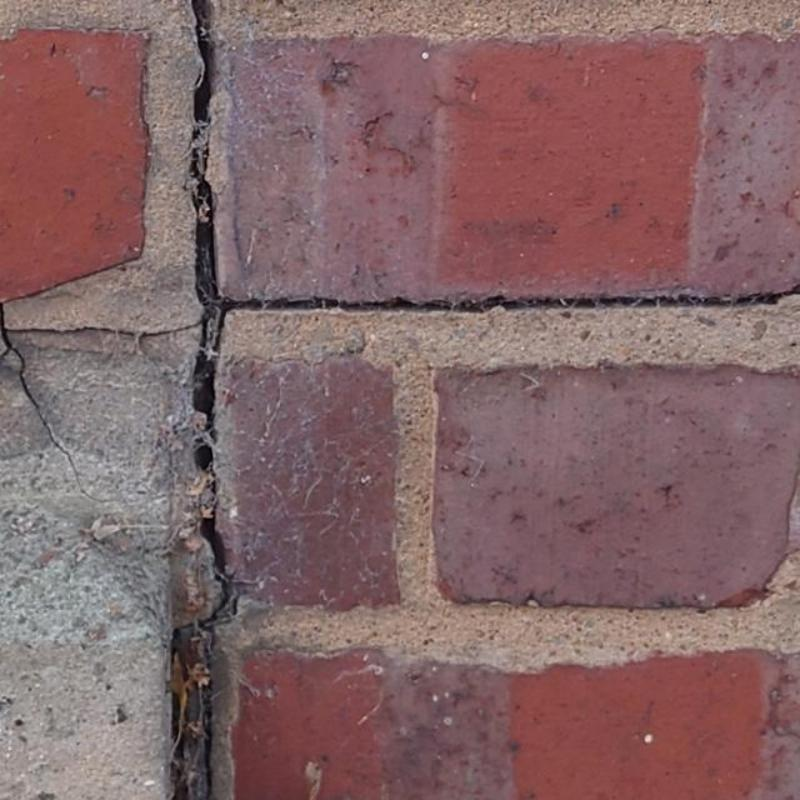crack: (169, 0, 675, 799), (0, 302, 199, 503), (670, 288, 799, 312)
